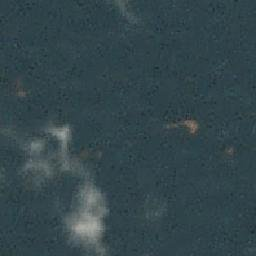cloud: (19, 119, 114, 253)
debris: (176, 114, 198, 133)
